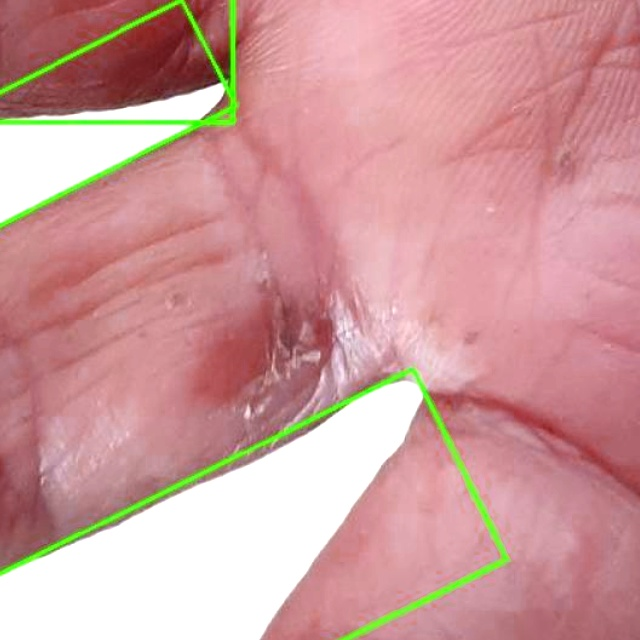Scabies: (0, 369, 506, 639), (0, 0, 235, 225)
